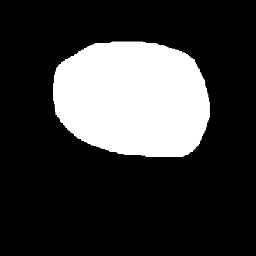mass: (60, 49, 203, 153)
